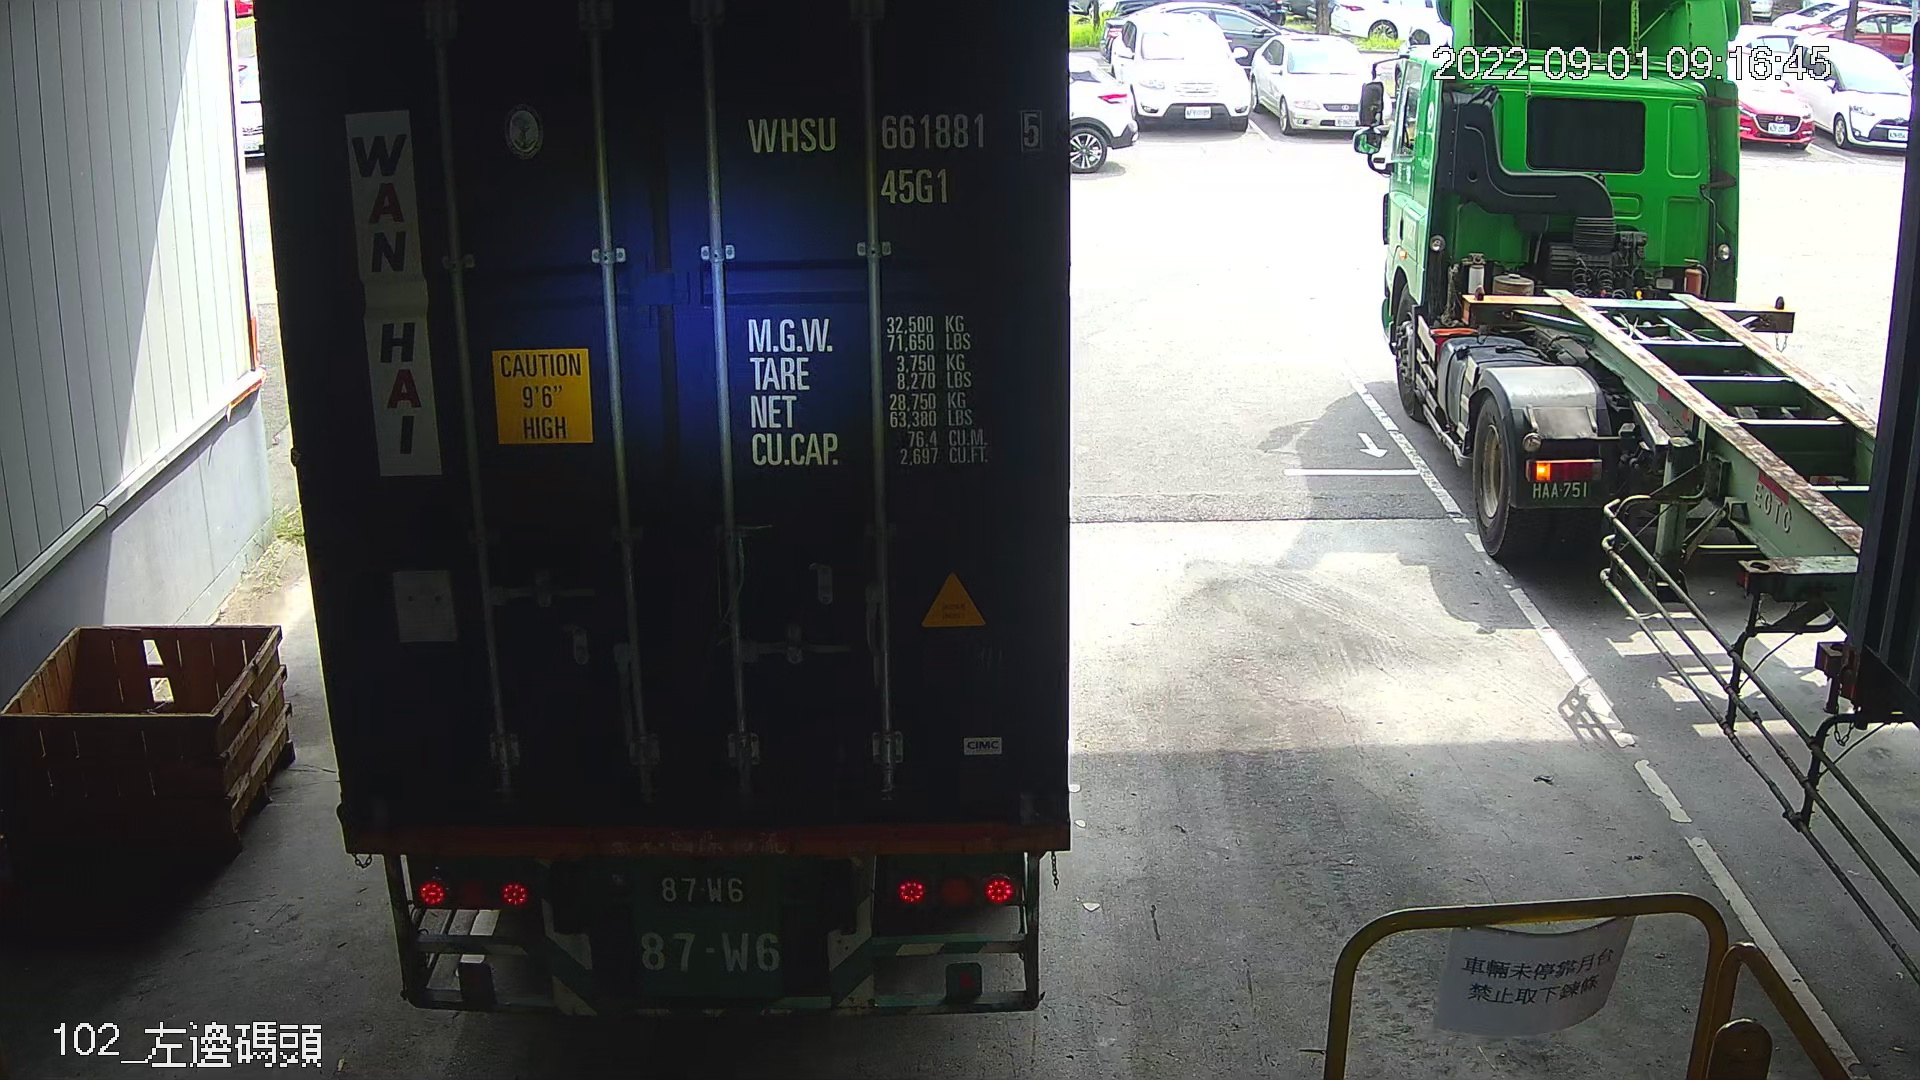container: (735, 95, 1051, 216)
